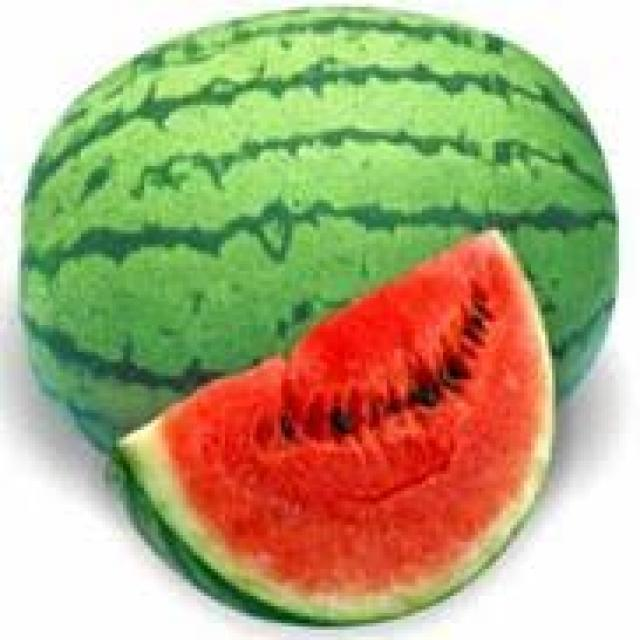organic waste: (21, 3, 615, 494), (99, 224, 556, 623)
